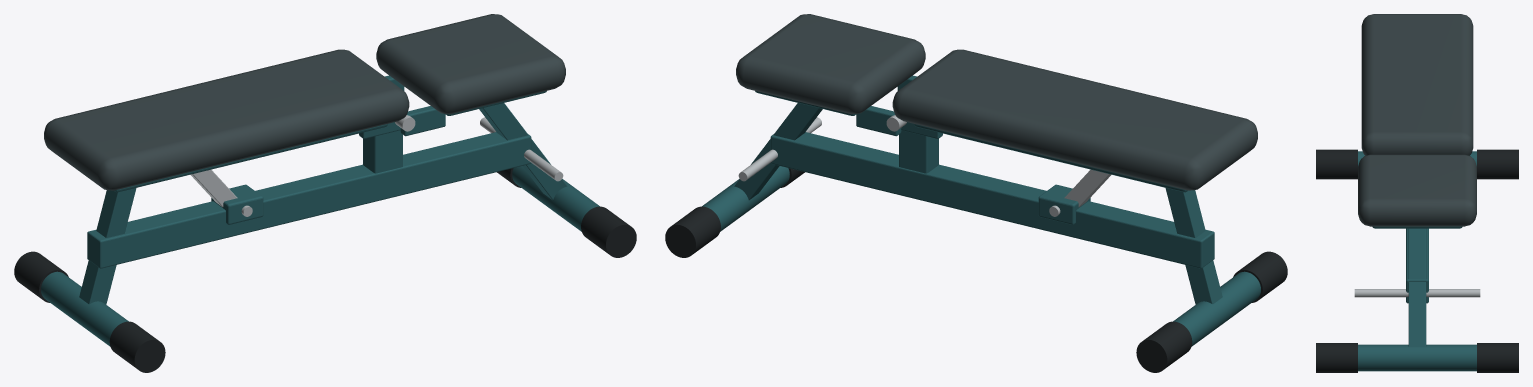
The picture shows the model from 3 angles, left to right: view 1: azimuth 30°, elevation 25°; view 2: azimuth 150°, elevation 25°; view 3: azimuth 270°, elevation 25°; orthographic projection. The views are drawn at different scales.
Visible parts, largest first — view 1: Long rounded back upholstery, Longitudinal lower box frame, Separate rounded seat upholstery, rear transverse metal foot, Rear sloping square support, rear rubber end cap -1, front rubber end cap -1, front transverse metal foot, Front sloping square support, Central hinge frame support, rear rubber end cap 1, Rear prop lower pivot housing (+4 smaller); view 2: Long rounded back upholstery, Longitudinal lower box frame, Separate rounded seat upholstery, rear transverse metal foot, Rear sloping square support, rear rubber end cap 1, front rubber end cap 1, front transverse metal foot, Front sloping square support, Central hinge frame support, rear rubber end cap -1, Rear prop lower pivot housing (+4 smaller); view 3: Long rounded back upholstery, Separate rounded seat upholstery, front transverse metal foot, Front sloping square support, rear rubber end cap -1, rear rubber end cap 1, front rubber end cap -1, front rubber end cap 1, Front support transverse pin, Longitudinal lower box frame, Seat pad underside support plate.
Part boxes in pixels (x1=…): Long rounded back upholstery: x1=44, y1=49, x2=409, y2=190; Longitudinal lower box frame: x1=87, y1=132, x2=531, y2=268; Separate rounded seat upholstery: x1=376, y1=14, x2=565, y2=114; rear transverse metal foot: x1=41, y1=271, x2=128, y2=346; Rear sloping square support: x1=79, y1=188, x2=136, y2=304; rear rubber end cap -1: x1=109, y1=321, x2=165, y2=372; front rubber end cap -1: x1=581, y1=206, x2=636, y2=257; front transverse metal foot: x1=512, y1=166, x2=599, y2=231; Front sloping square support: x1=479, y1=103, x2=567, y2=200; Central hinge frame support: x1=363, y1=130, x2=402, y2=173; rear rubber end cap 1: x1=14, y1=251, x2=68, y2=302; Rear prop lower pivot housing: x1=211, y1=184, x2=263, y2=224; Long rounded back upholstery: x1=892, y1=49, x2=1257, y2=190; Longitudinal lower box frame: x1=770, y1=132, x2=1214, y2=268; Separate rounded seat upholstery: x1=736, y1=14, x2=925, y2=114; rear transverse metal foot: x1=1173, y1=271, x2=1260, y2=346; Rear sloping square support: x1=1165, y1=188, x2=1222, y2=304; rear rubber end cap 1: x1=1136, y1=321, x2=1192, y2=372; front rubber end cap 1: x1=665, y1=206, x2=720, y2=257; front transverse metal foot: x1=702, y1=166, x2=789, y2=231; Front sloping square support: x1=734, y1=103, x2=822, y2=200; Central hinge frame support: x1=899, y1=130, x2=938, y2=173; rear rubber end cap -1: x1=1233, y1=251, x2=1287, y2=302; Rear prop lower pivot housing: x1=1038, y1=184, x2=1090, y2=224; Long rounded back upholstery: x1=1361, y1=14, x2=1473, y2=155; Separate rounded seat upholstery: x1=1358, y1=154, x2=1476, y2=226; front transverse metal foot: x1=1358, y1=344, x2=1476, y2=371; Front sloping square support: x1=1408, y1=228, x2=1426, y2=346; rear rubber end cap -1: x1=1316, y1=149, x2=1357, y2=179; rear rubber end cap 1: x1=1477, y1=149, x2=1518, y2=179; front rubber end cap -1: x1=1316, y1=343, x2=1357, y2=372; front rubber end cap 1: x1=1477, y1=343, x2=1518, y2=372; Front support transverse pin: x1=1354, y1=289, x2=1480, y2=297; Longitudinal lower box frame: x1=1406, y1=228, x2=1428, y2=303; Seat pad underside support plate: x1=1372, y1=226, x2=1462, y2=228.
Size of the model in its own units: 1.4 by 0.5075 by 0.58.
